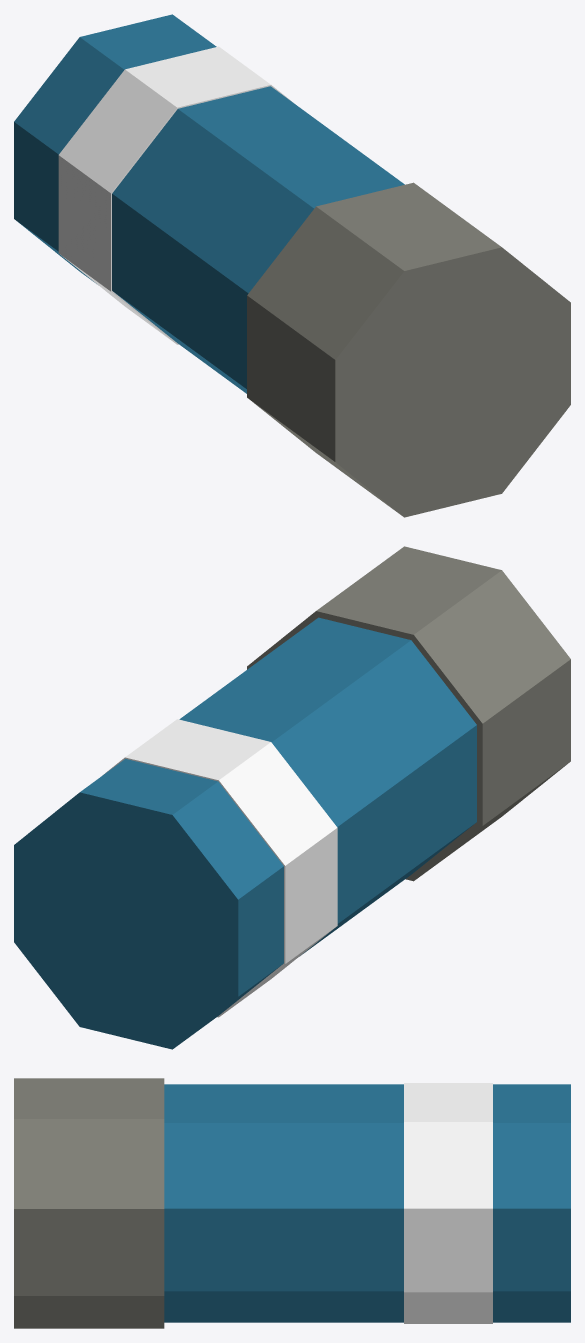
File: ce_ammo_chshotgun_ion_a.obj
3 views of the same model, one above another, from view 1: azimuth 30°, elevation 25°; view 2: azimuth 150°, elevation 25°; view 3: azimuth 270°, elevation 25° (orthographic). The views are drawn at different scales.
Parts seen in each view (by area): view 1: ce_ammo_chshotgun_ion_a_0, ce_ammo_chshotgun_ion_a_1, ce_ammo_chshotgun_ion_a_2, ce_ammo_chshotgun_ion_a_3; view 2: ce_ammo_chshotgun_ion_a_3, ce_ammo_chshotgun_ion_a_1, ce_ammo_chshotgun_ion_a_0, ce_ammo_chshotgun_ion_a_2; view 3: ce_ammo_chshotgun_ion_a_1, ce_ammo_chshotgun_ion_a_0, ce_ammo_chshotgun_ion_a_2, ce_ammo_chshotgun_ion_a_3.
Part boxes in pixels (<box>): ce_ammo_chshotgun_ion_a_0: <box>247,182,570,517</box>; ce_ammo_chshotgun_ion_a_1: <box>112,86,404,393</box>; ce_ammo_chshotgun_ion_a_2: <box>58,46,293,344</box>; ce_ammo_chshotgun_ion_a_3: <box>14,14,216,283</box>; ce_ammo_chshotgun_ion_a_3: <box>14,759,283,1049</box>; ce_ammo_chshotgun_ion_a_1: <box>179,617,476,956</box>; ce_ammo_chshotgun_ion_a_0: <box>247,546,570,881</box>; ce_ammo_chshotgun_ion_a_2: <box>102,719,337,1017</box>; ce_ammo_chshotgun_ion_a_1: <box>164,1084,403,1322</box>; ce_ammo_chshotgun_ion_a_0: <box>14,1078,164,1328</box>; ce_ammo_chshotgun_ion_a_2: <box>404,1083,492,1323</box>; ce_ammo_chshotgun_ion_a_3: <box>493,1084,570,1322</box>.
Size of the model in its own units: 0.1746 by 0.1746 by 0.42.
